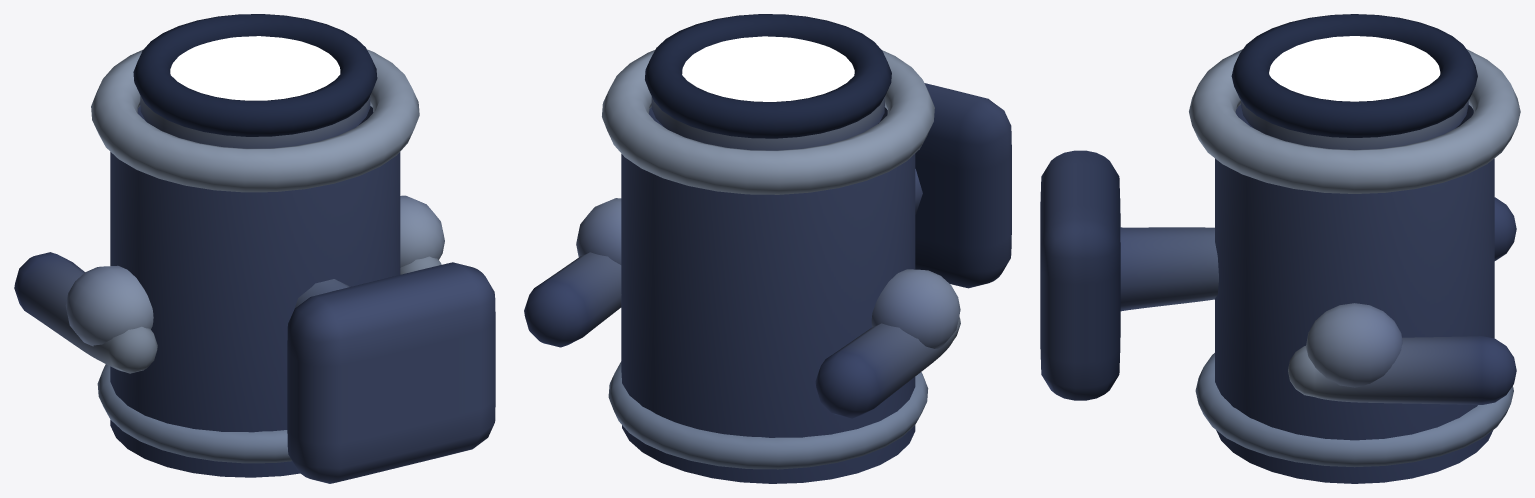
The model's file is SpalakhMatteSpotlightHang_v099.glb.
The picture shows the model from 3 angles, left to right: view 1: azimuth 30°, elevation 25°; view 2: azimuth 150°, elevation 25°; view 3: azimuth 270°, elevation 25°; orthographic projection.
Parts seen in each view (by area): view 1: game_asset; view 2: game_asset; view 3: game_asset.
Part boxes in pixels (left/top/right/bottom): game_asset: left=14, top=14, right=495, bottom=483; game_asset: left=524, top=14, right=1011, bottom=483; game_asset: left=1040, top=14, right=1520, bottom=483.
Bounding box in the file's own units: 0.636 × 0.598 × 0.718.
